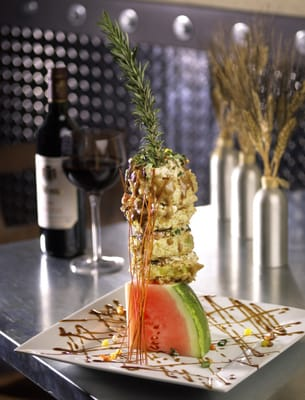burger: (34, 62, 82, 259)
curry: (0, 67, 305, 400), (1, 221, 305, 400)
sandwich: (61, 127, 128, 274)
soup: (121, 54, 213, 361)
